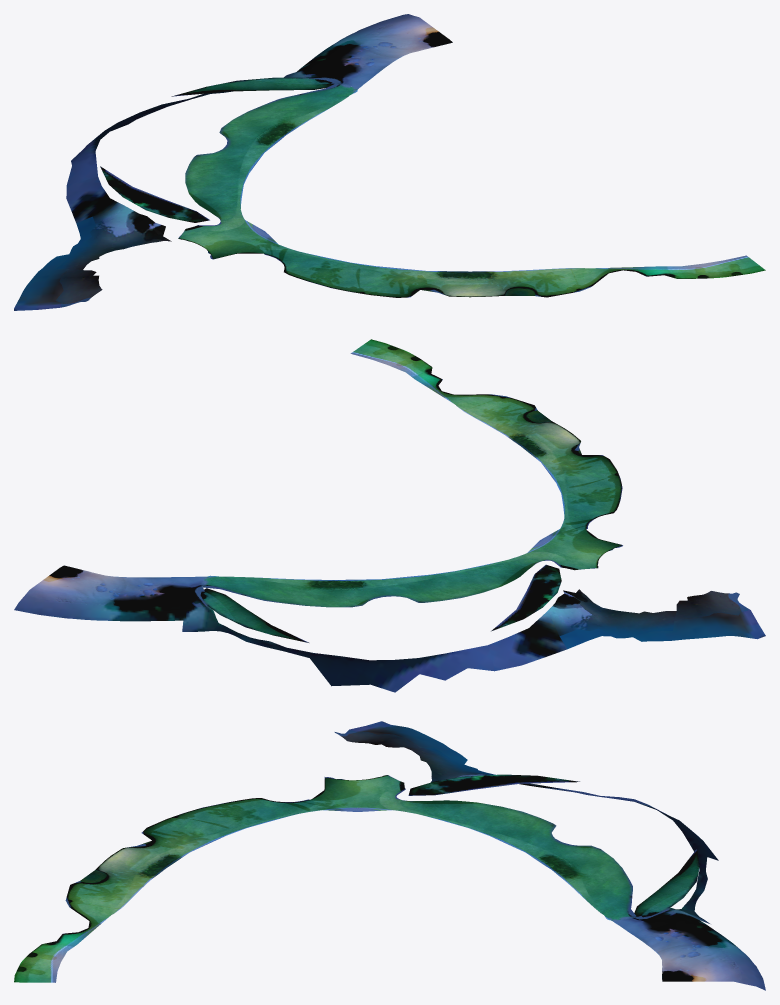
The model's file is pref_sm_beach_WSJ_techsmall_001_bk_outer_R_lv0.fbx.
3 views of the same model, one above another, from view 1: azimuth 30°, elevation 25°; view 2: azimuth 150°, elevation 25°; view 3: azimuth 270°, elevation 25° (orthographic). The views are drawn at different scales.
Visible parts, largest first — view 1: pref_sm_beach_WSJ_techsmall_001_bk_outer_R_lv0; view 2: pref_sm_beach_WSJ_techsmall_001_bk_outer_R_lv0; view 3: pref_sm_beach_WSJ_techsmall_001_bk_outer_R_lv0.
Part boxes in pixels (<box>): pref_sm_beach_WSJ_techsmall_001_bk_outer_R_lv0: <box>14,14,765,310</box>; pref_sm_beach_WSJ_techsmall_001_bk_outer_R_lv0: <box>14,339,765,692</box>; pref_sm_beach_WSJ_techsmall_001_bk_outer_R_lv0: <box>14,721,765,990</box>.
Bounding box in the file's own units: 79.44 × 4.16 × 86.31.
1 material, 1 textured.
